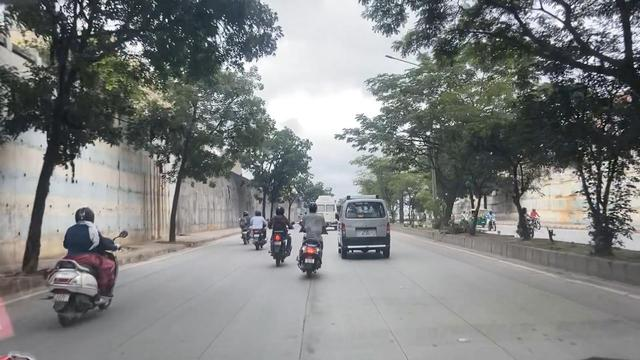LMV: (44, 199, 119, 317), (332, 189, 404, 263), (295, 196, 324, 275), (261, 201, 288, 262)
